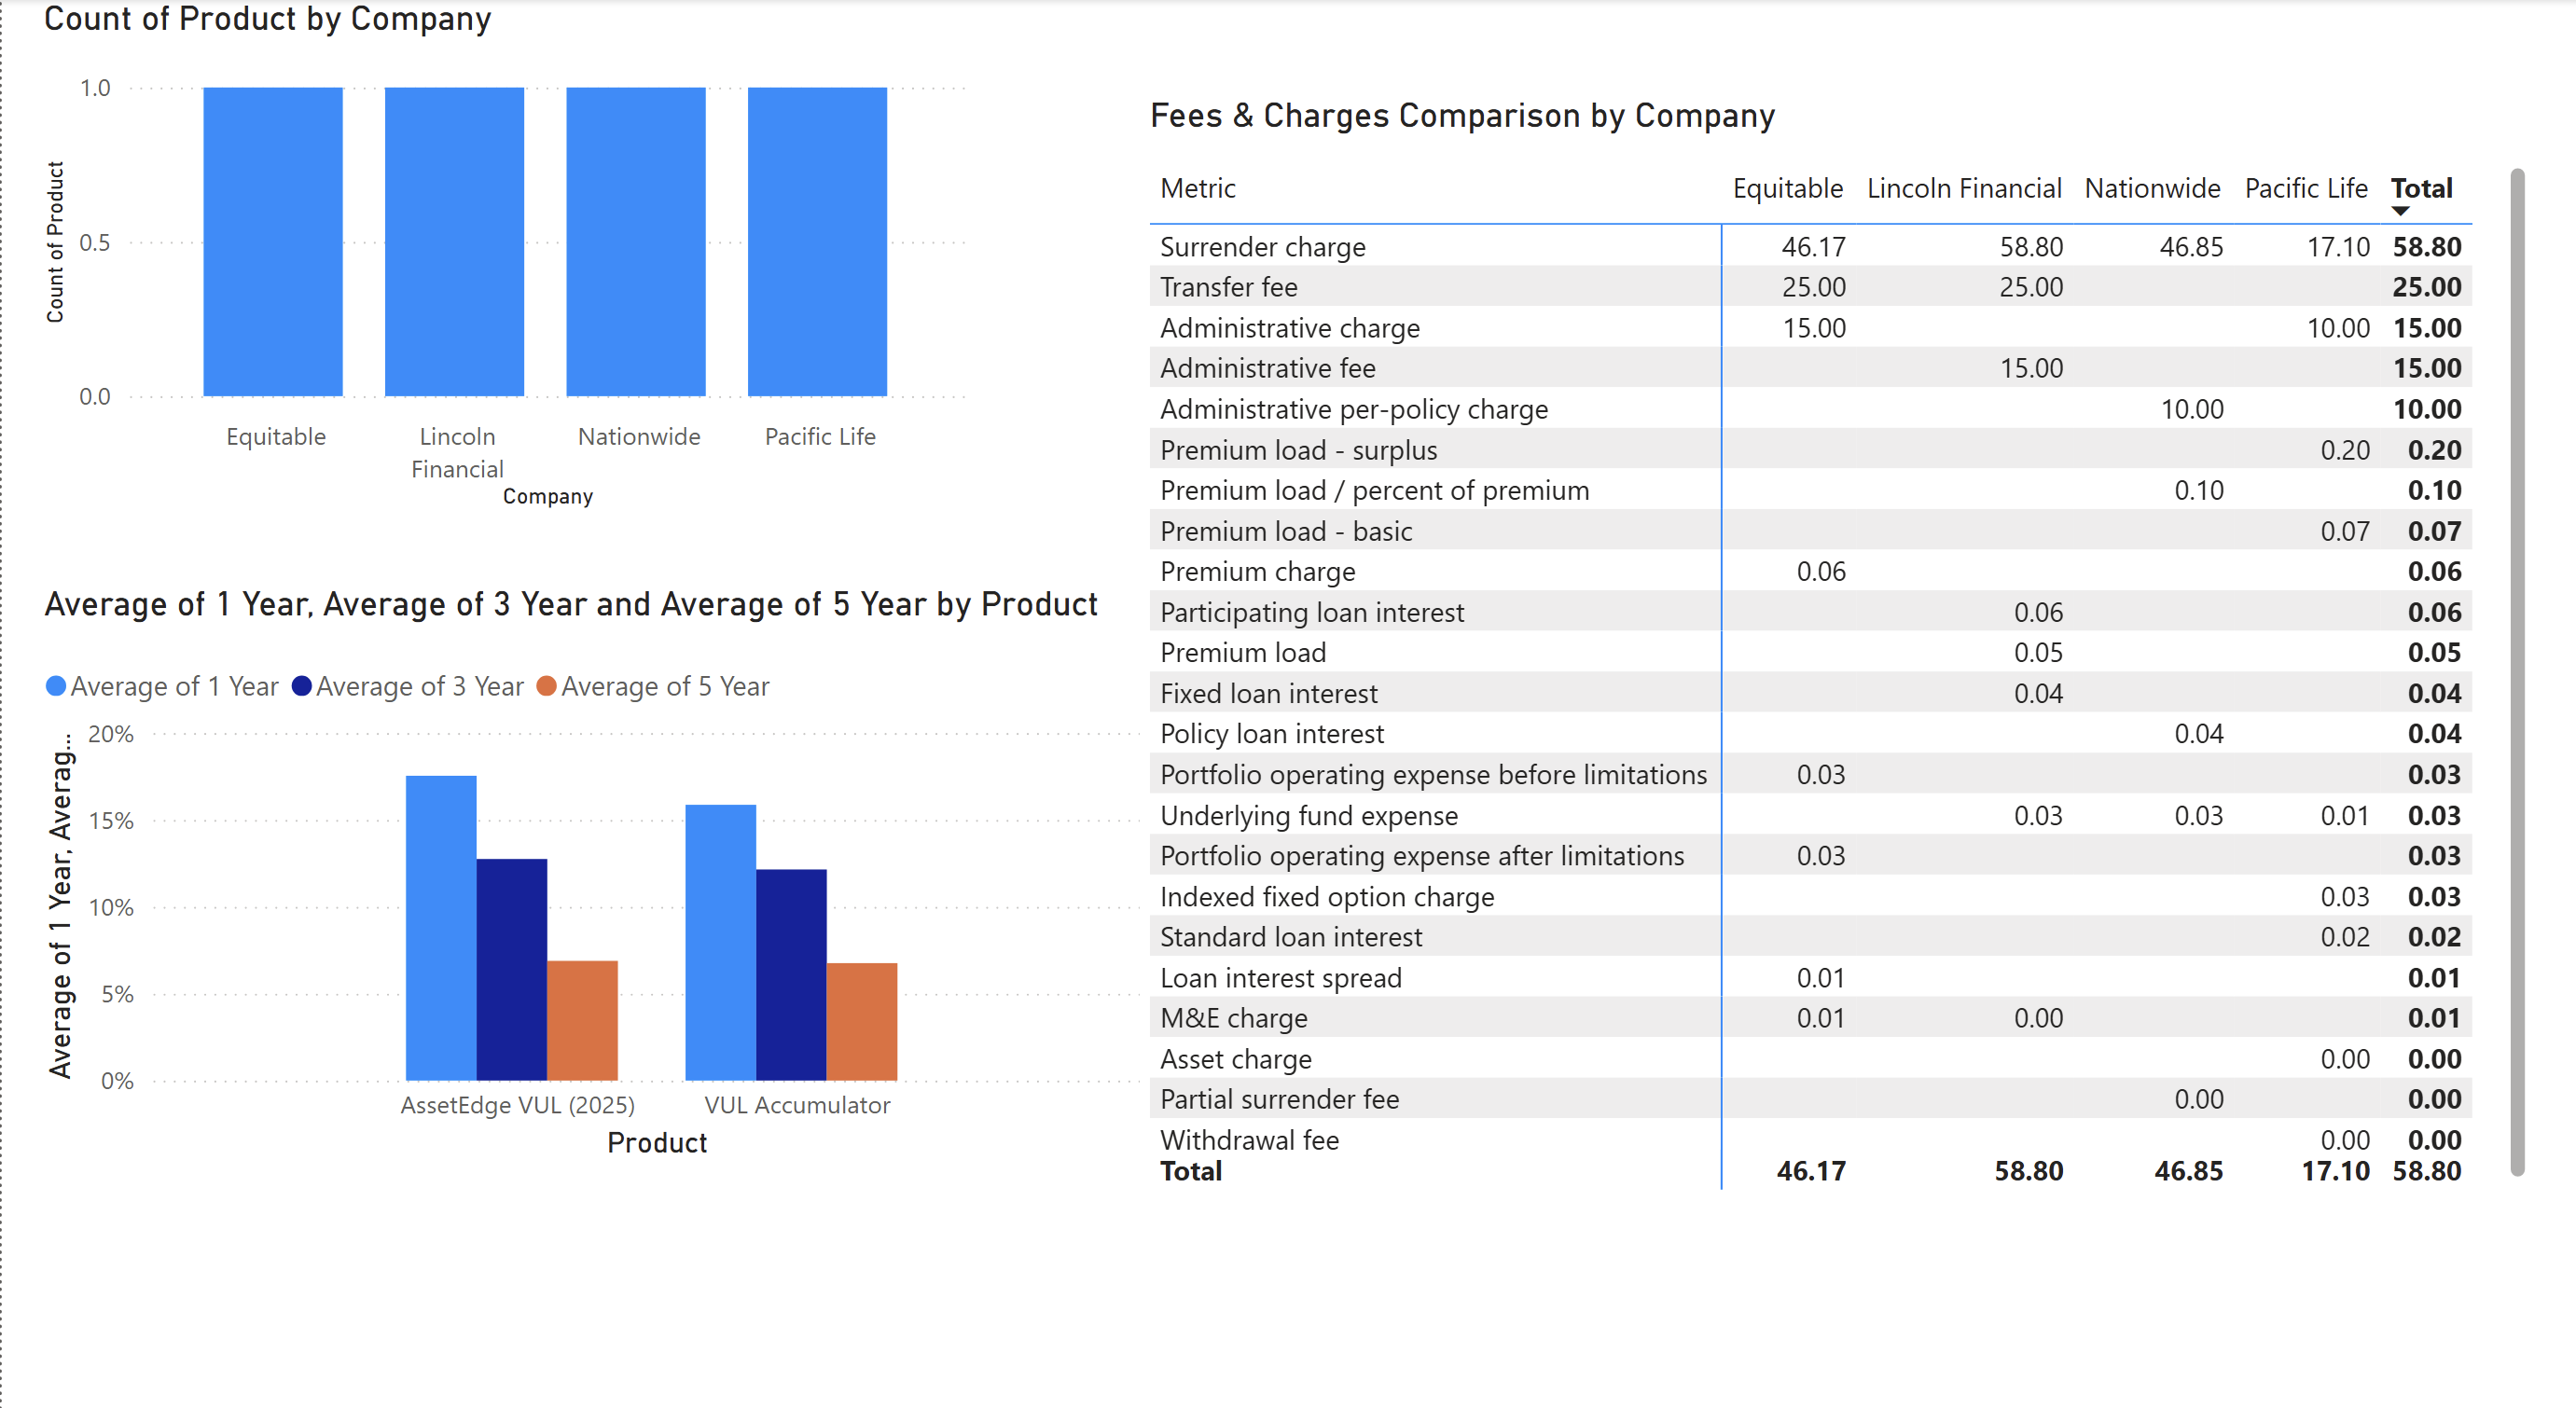

What the dashboard file says about the page in this screenshot:
{"tool":"powerbi","page":{"name":"Page 1","canvas":[1280,720],"ordinal":0},"visuals":[{"type":"clusteredColumnChart","fields":{"Category":["ProductMasterTable.Company"],"Y":["Count(ProductMasterTable.Product)"]},"box":[16,0,464,256],"z":0},{"type":"clusteredColumnChart","fields":{"Category":["FundPerformanceTable.Product"],"Y":["Avg(FundPerformanceTable.1 Year)","Avg(FundPerformanceTable.3 Year)","Avg(FundPerformanceTable.5 Year)"]},"box":[16,288,560,288],"z":1000},{"type":"pivotTable","title":"Fees & Charges Comparison by Company","fields":{"Rows":["FeesTable.Metric"],"Columns":["FeesTable.Company"],"Values":["Max(FeesTable.Value)"]},"box":[560,48,688,544],"z":2000}]}

Visuals, with their boxes in screenshot pixels (x1, y1, x2, y2), scaled from the page's 1280x720 canvas onto the 2576x1408 screenshot:
clusteredColumnChart - ProductMasterTable.Company x Count(ProductMasterTable.Product): locate(33, 0, 966, 501)
clusteredColumnChart - FundPerformanceTable.Product x Avg(FundPerformanceTable.1 Year): locate(33, 563, 1159, 1126)
"Fees & Charges Comparison by Company" pivotTable: locate(1127, 94, 2512, 1158)
